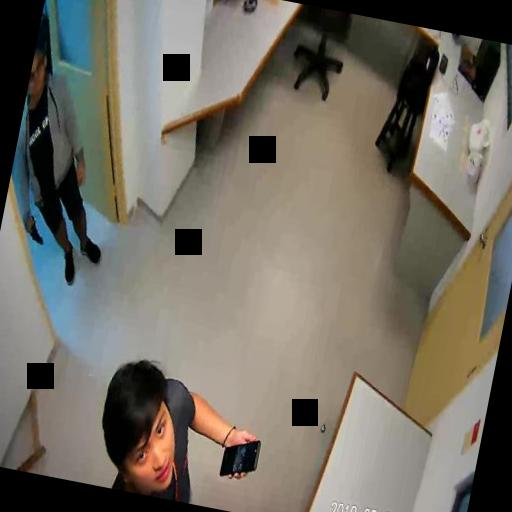Handgun: (24, 214, 48, 244)
